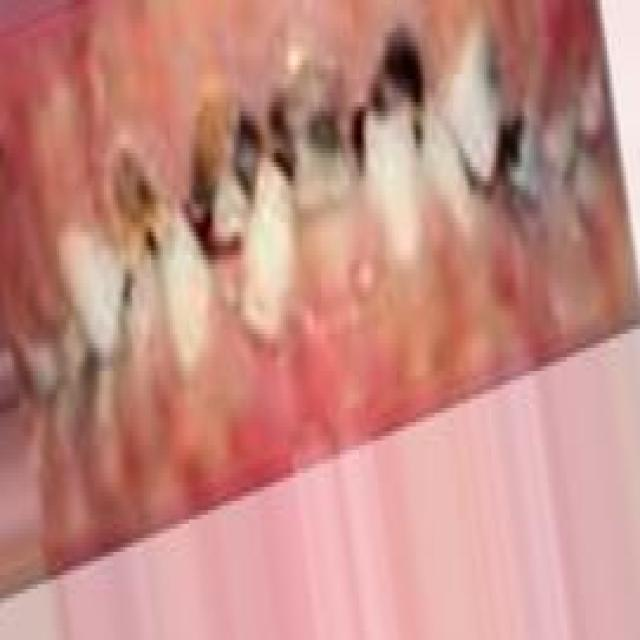caries: (184, 76, 275, 257), (267, 45, 351, 221), (345, 16, 430, 188), (101, 121, 182, 278), (491, 97, 551, 211)
